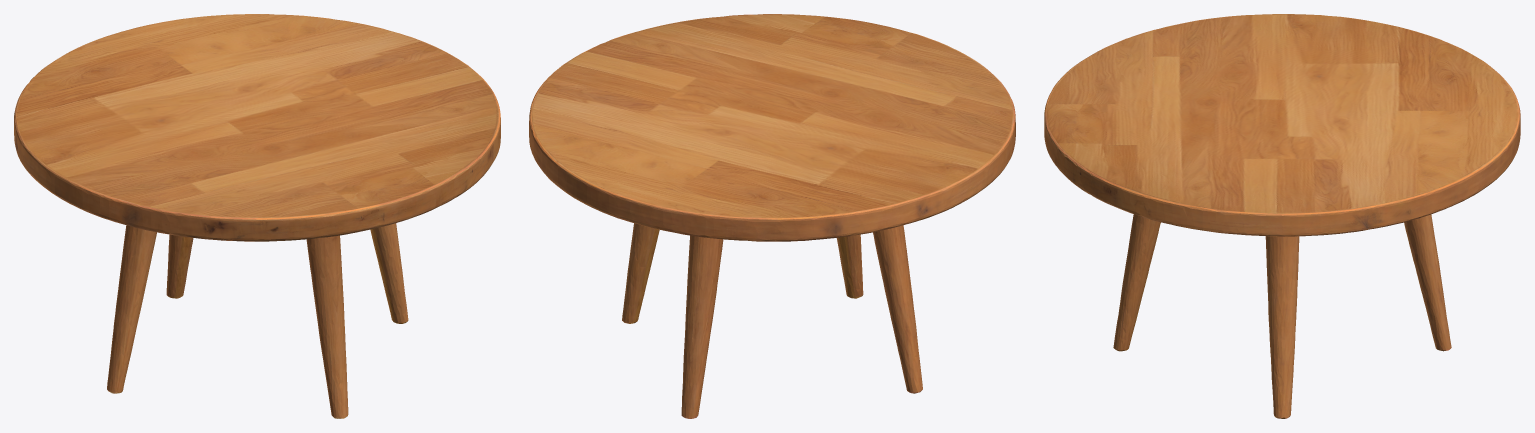
Rendered from table2.FBX.
3 renders of one model, left to right at view 1: azimuth 30°, elevation 25°; view 2: azimuth 150°, elevation 25°; view 3: azimuth 270°, elevation 25°, orthographic. The views are drawn at different scales.
Visible parts, largest first — view 1: temp; view 2: temp; view 3: temp.
Part boxes in pixels (x1,y1,x2,y2): temp: (14,14,500,418); temp: (529,14,1015,418); temp: (1044,14,1520,418).
Size of the model in its own units: 200 by 109 by 200.
Materials: 1 (1 with a texture image).
